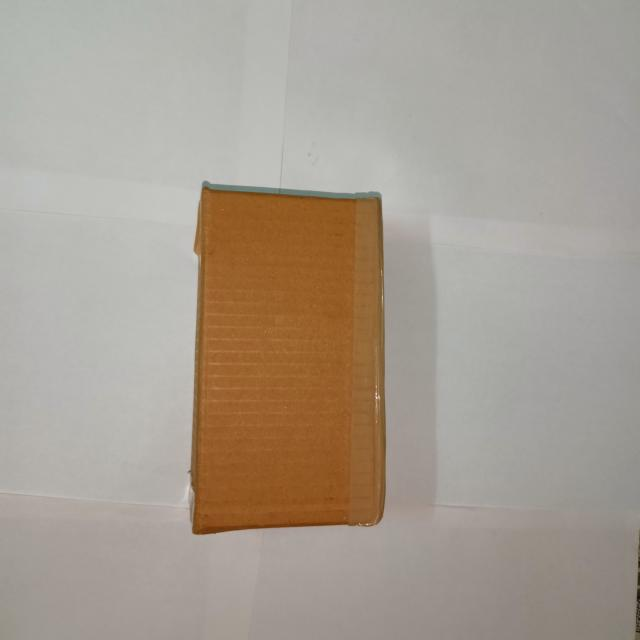box: (200, 189, 385, 524)
